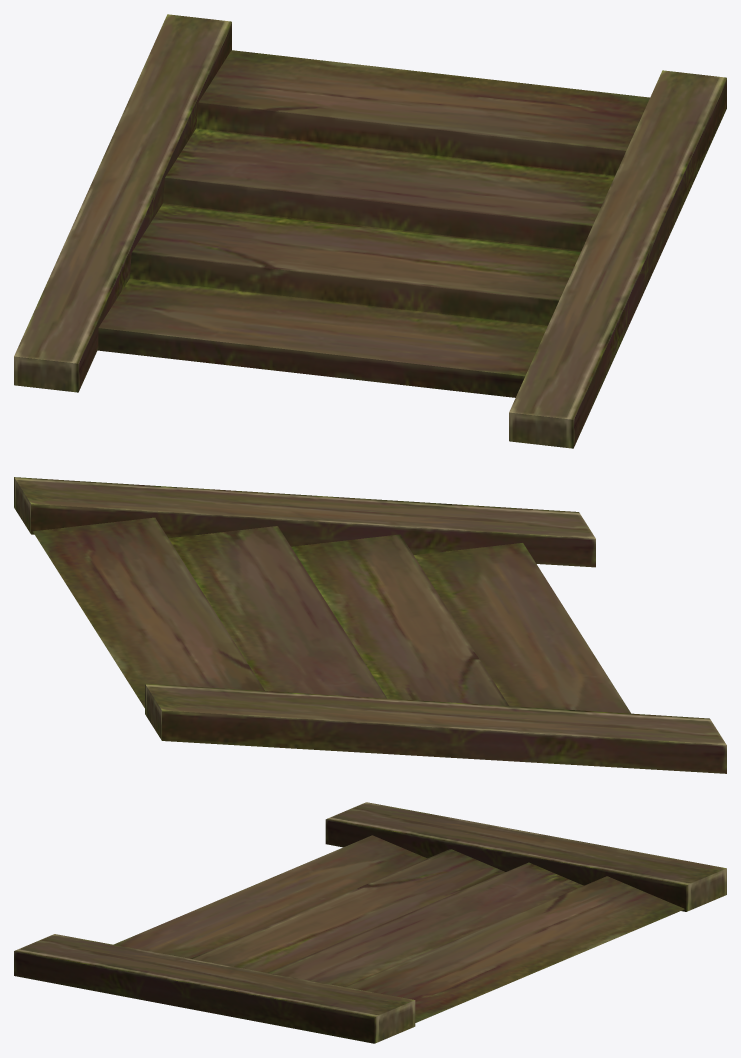
File: shilianzhidi1_muqiao_002.FBX
3 renders of one model, top to bottom at view 1: azimuth 30°, elevation 25°; view 2: azimuth 150°, elevation 25°; view 3: azimuth 270°, elevation 25°, orthographic. The views are drawn at different scales.
Parts seen in each view (by area): view 1: shilianzhidi1_muqiao2; view 2: shilianzhidi1_muqiao2; view 3: shilianzhidi1_muqiao2.
Boxes of the visible parts, bbox=[...] form: shilianzhidi1_muqiao2: bbox=[14, 14, 726, 448]; shilianzhidi1_muqiao2: bbox=[14, 477, 726, 773]; shilianzhidi1_muqiao2: bbox=[14, 802, 726, 1043].
Bounding box in the file's own units: 1031 × 1031 × 177.
1 material, 1 textured.
